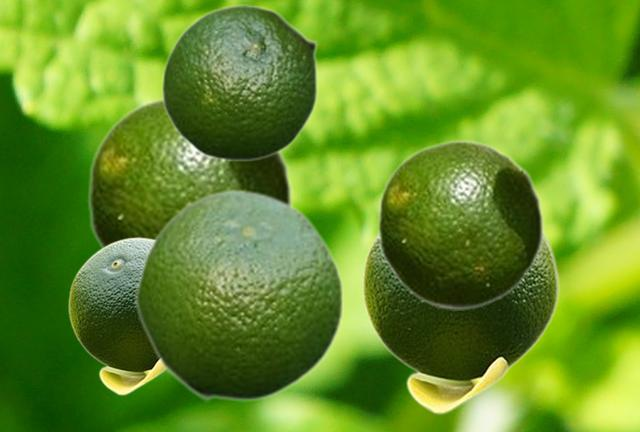calamansi: (133, 187, 344, 401), (362, 230, 558, 413), (86, 92, 293, 249), (376, 139, 544, 309), (161, 4, 318, 161), (68, 237, 164, 394)
